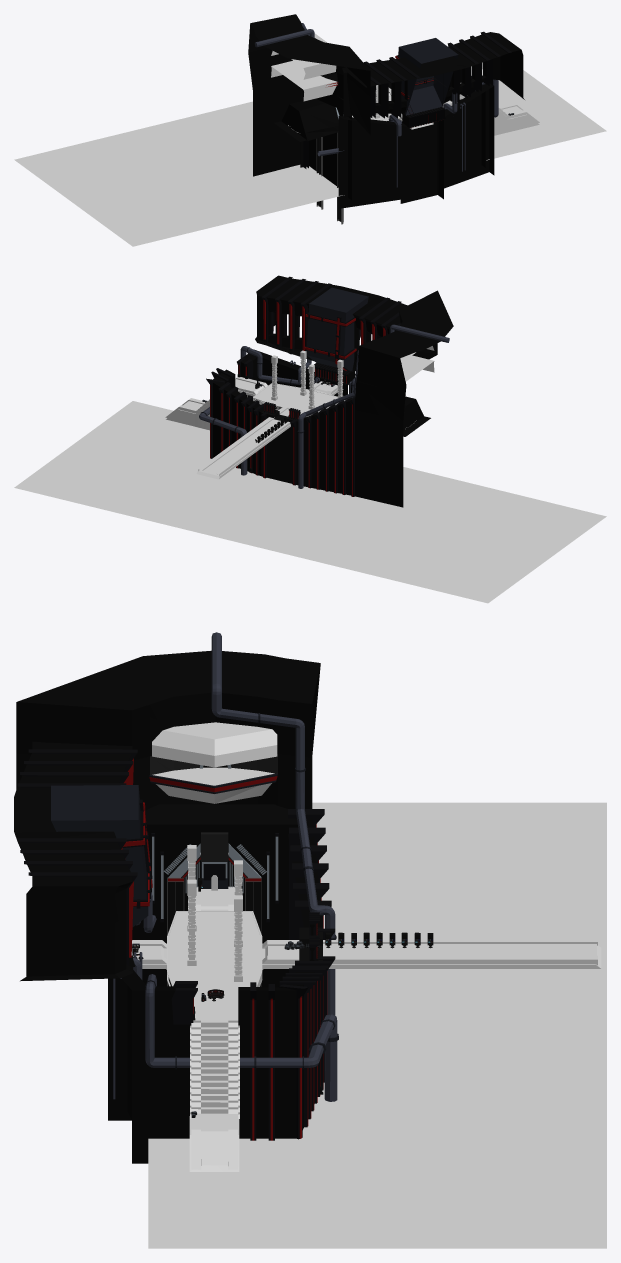
The model's file is Lvl3_FinalBossRoom.fbx.
3 views of the same model, one above another, from view 1: azimuth 30°, elevation 25°; view 2: azimuth 150°, elevation 25°; view 3: azimuth 270°, elevation 25° (orthographic). The views are drawn at different scales.
Parts seen in each view (by area): view 1: Background, Wall2, Wall1, Wall3, WallBlock1, Cabine.001, Tubes, LightWall, Frame, P_Bot6; view 2: Background, Wall2, Wall1, Wall3, WallBlock1, Tubes, P_Top5, PlayableGround, LightWall, Cabine.001; view 3: Background, Wall2, Wall1, Wall3, Tubes, Cabine.001, P_Top5, WallBlock1, PlayableGround, Stairs, Frame, P_Top6 (+4 smaller).
Part boxes in pixels (x1=…): Background: x1=14, y1=62, x2=606, y2=246; Wall2: x1=274, y1=69, x2=494, y2=208; Wall1: x1=248, y1=14, x2=370, y2=176; Wall3: x1=342, y1=31, x2=524, y2=118; WallBlock1: x1=395, y1=38, x2=458, y2=115; Cabine.001: x1=271, y1=51, x2=337, y2=101; Tubes: x1=254, y1=23, x2=498, y2=187; LightWall: x1=402, y1=107, x2=445, y2=127; Frame: x1=316, y1=107, x2=343, y2=224; P_Bot6: x1=507, y1=114, x2=539, y2=132; Background: x1=14, y1=401, x2=606, y2=603; Wall2: x1=206, y1=349, x2=430, y2=496; Wall1: x1=355, y1=290, x2=453, y2=507; Wall3: x1=255, y1=275, x2=407, y2=370; WallBlock1: x1=304, y1=287, x2=368, y2=371; Tubes: x1=199, y1=324, x2=449, y2=488; P_Top5: x1=198, y1=417, x2=290, y2=476; PlayableGround: x1=253, y1=384, x2=345, y2=412; LightWall: x1=264, y1=362, x2=354, y2=419; Cabine.001: x1=400, y1=346, x2=434, y2=381; Background: x1=148, y1=802, x2=606, y2=1248; Wall2: x1=108, y1=804, x2=335, y2=1163; Wall1: x1=16, y1=650, x2=320, y2=810; Wall3: x1=14, y1=741, x2=137, y2=981; Tubes: x1=113, y1=632, x2=338, y2=1101; Cabine.001: x1=152, y1=722, x2=277, y2=803; P_Top5: x1=323, y1=940, x2=597, y2=965; WallBlock1: x1=51, y1=785, x2=152, y2=926; PlayableGround: x1=168, y1=912, x2=260, y2=996; Stairs: x1=191, y1=1012, x2=238, y2=1113; Frame: x1=167, y1=832, x2=261, y2=986; P_Top6: x1=191, y1=1113, x2=237, y2=1169.
Size of what is drawn, in the model's own units: 230 by 88.16 by 129.
